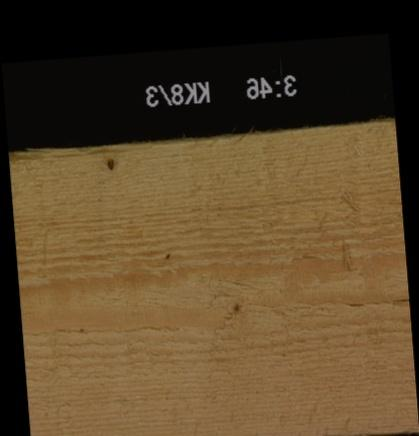dry_knot: (101, 155, 117, 171)
small_knot: (229, 300, 245, 314)
split: (345, 296, 408, 305)
wave: (7, 133, 250, 153)
